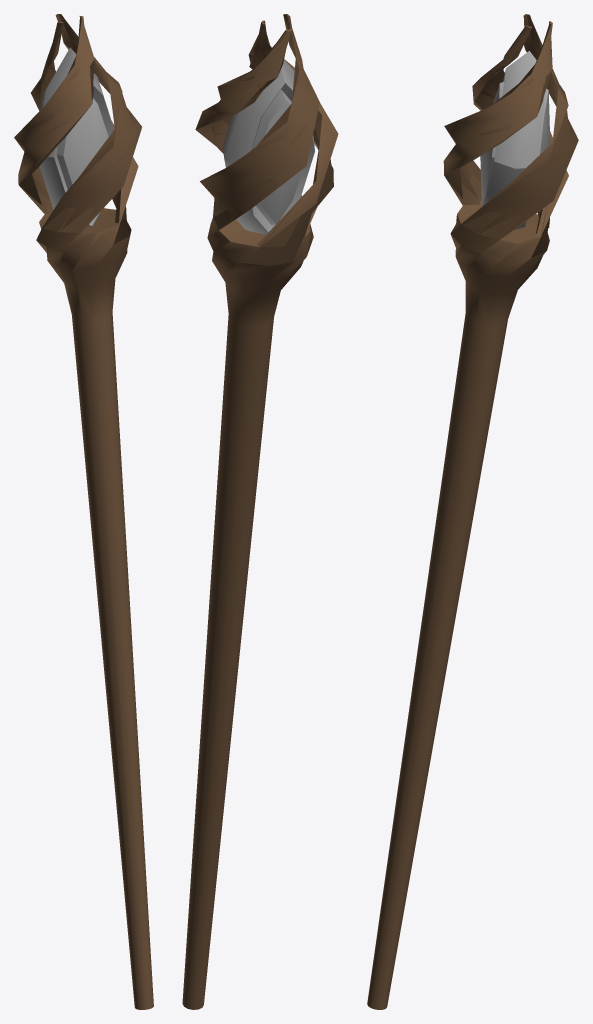
File: Baston.fbx
3 renders of one model, left to right at view 1: azimuth 30°, elevation 25°; view 2: azimuth 210°, elevation 25°; view 3: azimuth 270°, elevation 25°, orthographic. The views are drawn at different scales.
Visible parts, largest first — view 1: Baston_Magico, Gema; view 2: Baston_Magico, Gema; view 3: Baston_Magico, Gema.
Part boxes in pixels (x1=…): Baston_Magico: x1=14, y1=14, x2=153, y2=1009; Gema: x1=39, y1=47, x2=114, y2=226; Baston_Magico: x1=182, y1=14, x2=338, y2=1009; Gema: x1=222, y1=60, x2=314, y2=234; Baston_Magico: x1=367, y1=14, x2=578, y2=1009; Gema: x1=480, y1=51, x2=550, y2=229.
Bounding box in the file's own units: 22.89 × 194 × 37.75.
